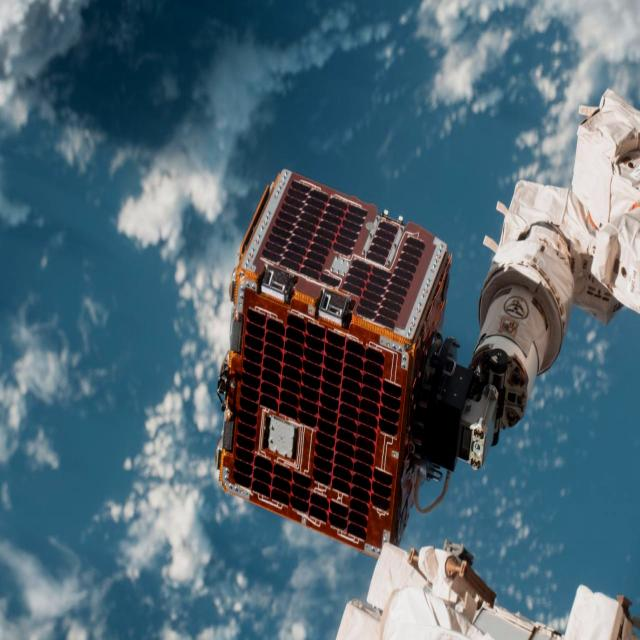medium_debris: (218, 90, 640, 555)
